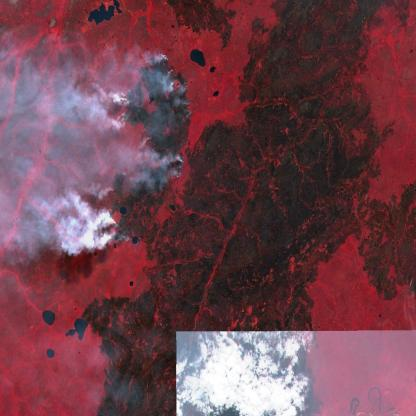fire: (96, 54, 194, 253)
